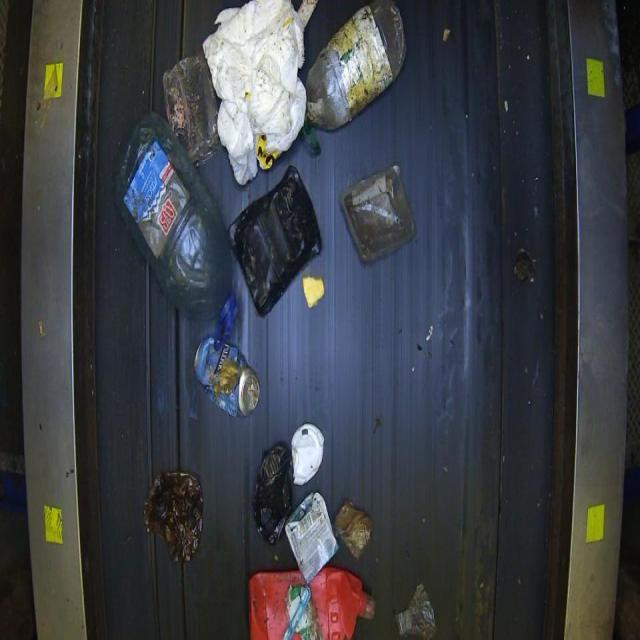cups: (113, 111, 233, 320), (227, 164, 322, 316), (304, 0, 406, 132), (339, 163, 416, 263), (192, 335, 260, 417)
